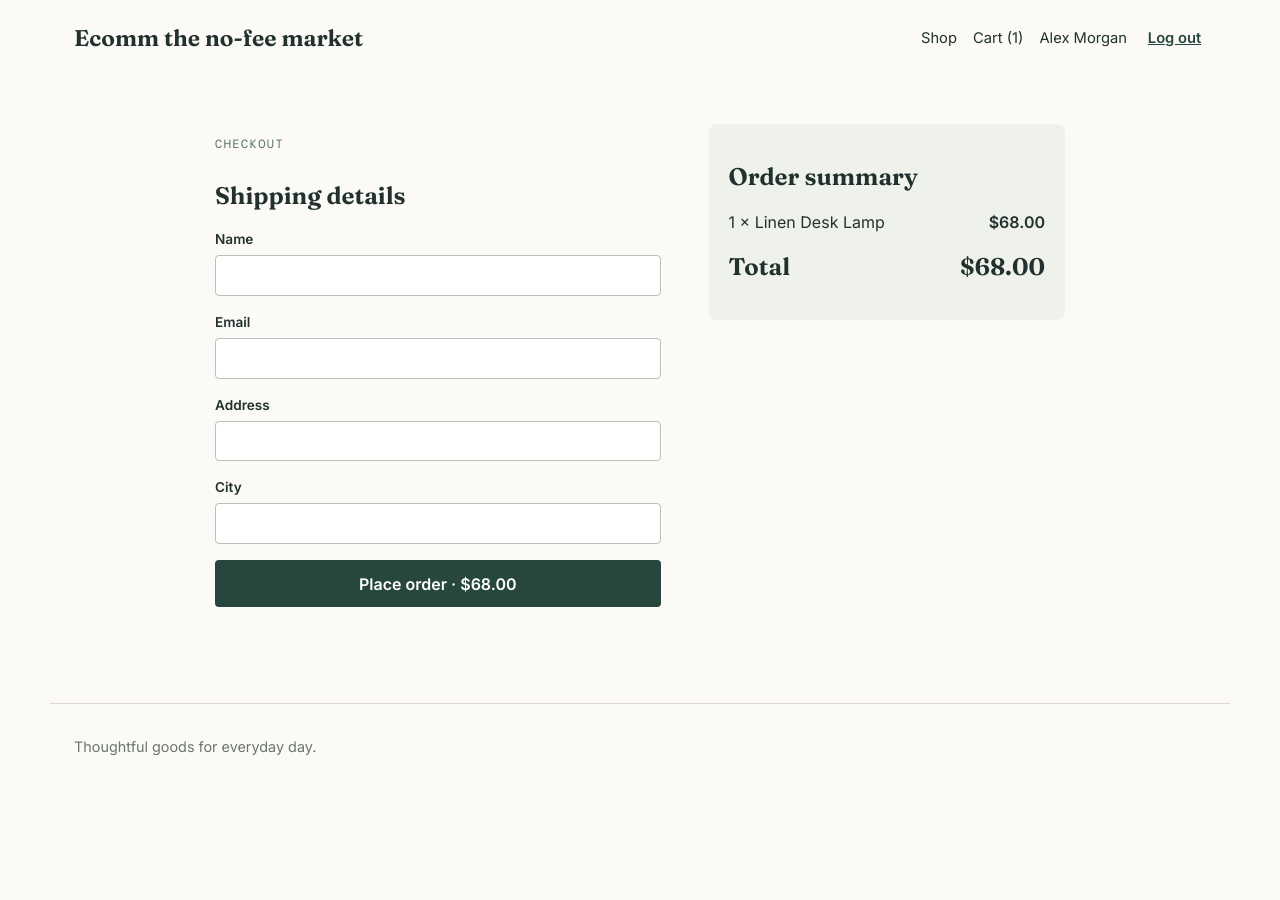
Test: shows cart information at checkout and confirms an order
Expected: the text "1 × Linen Desk Lamp $68.00" is shown, [728,210,1045,234]
In the field labelled "Name": (438, 275) [215,255,660,296], type "Sam"
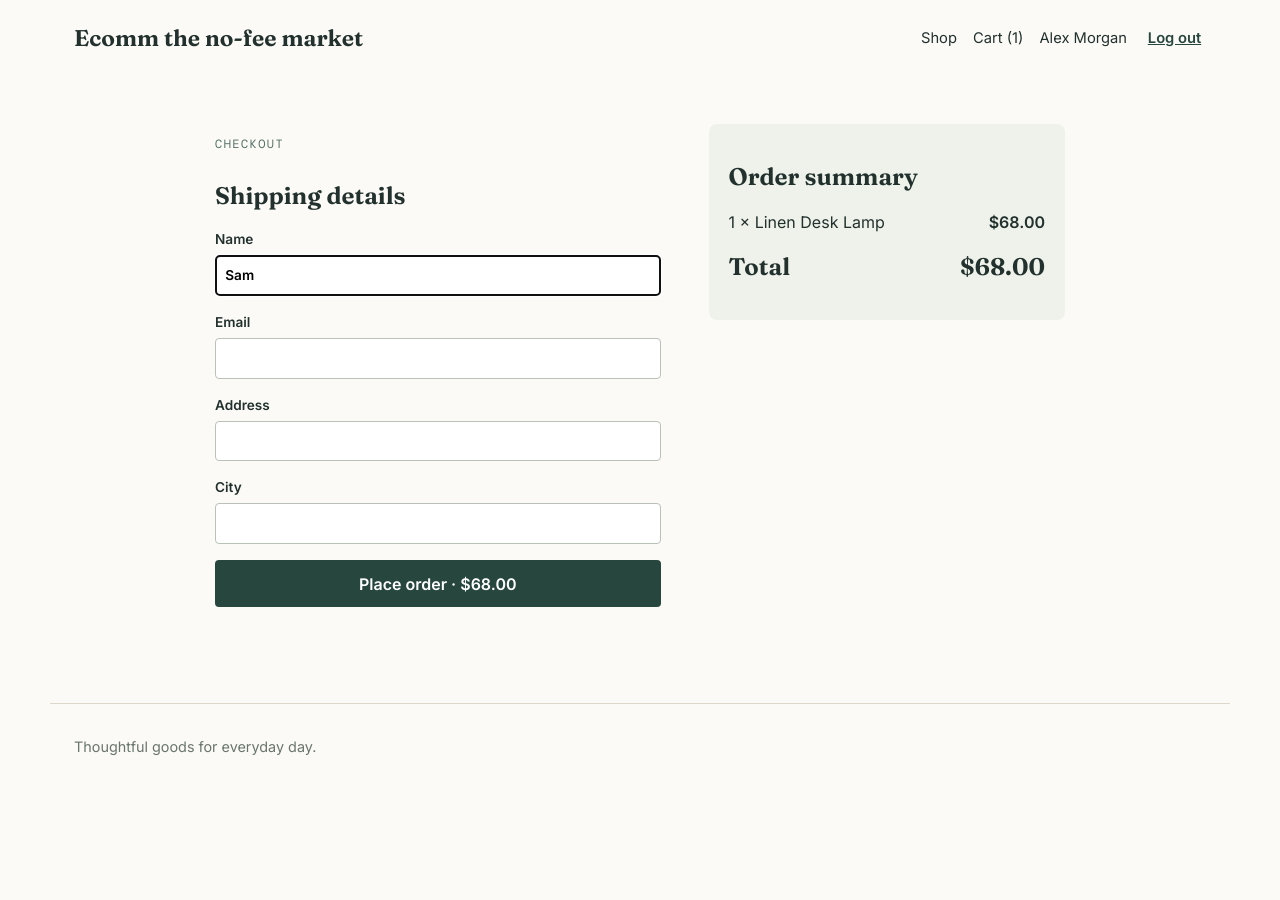
In the field labelled "Email": (438, 358) [215,338,660,379], type "sam@example.com"
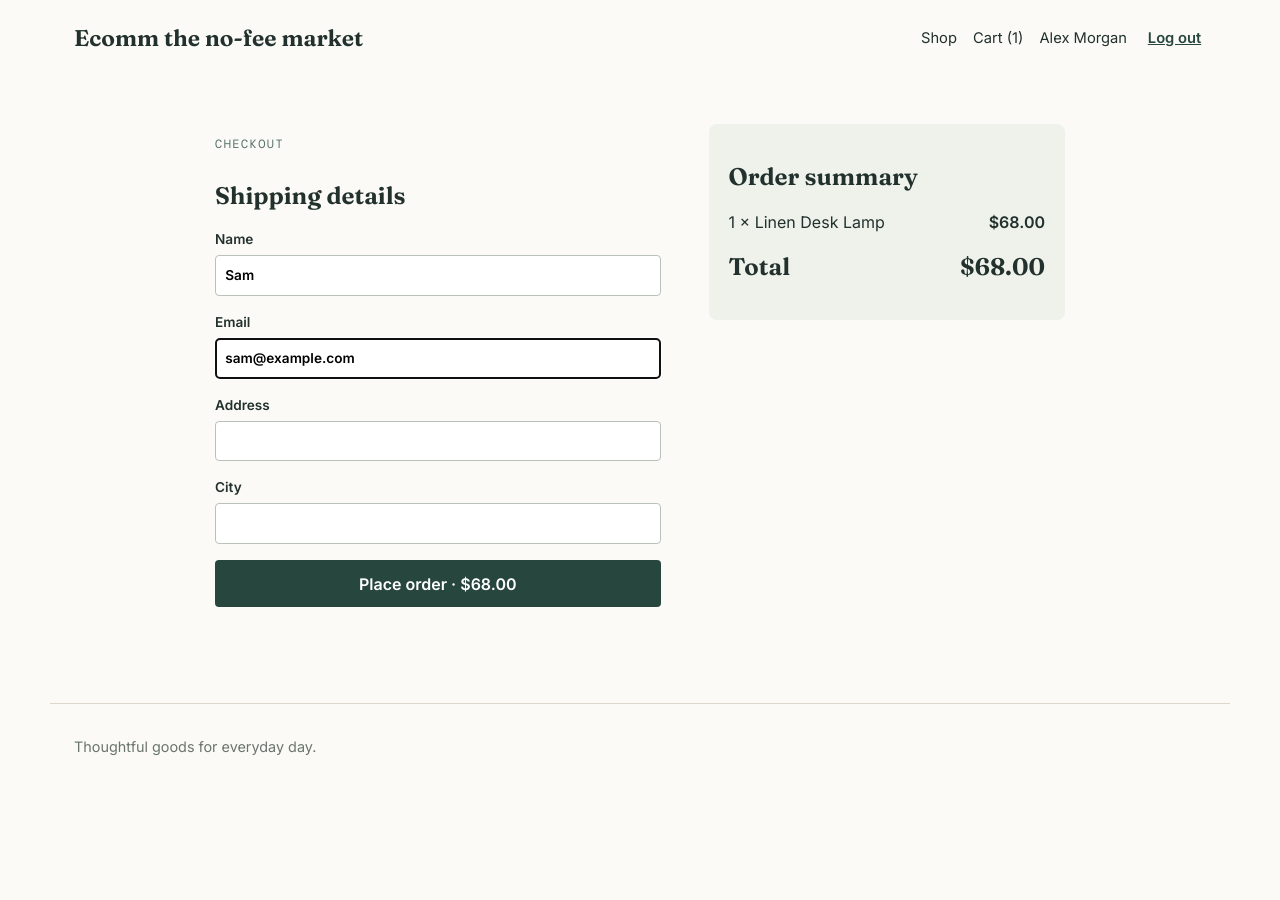
In the field labelled "Address": (438, 441) [215,421,660,462], type "River Road 1"
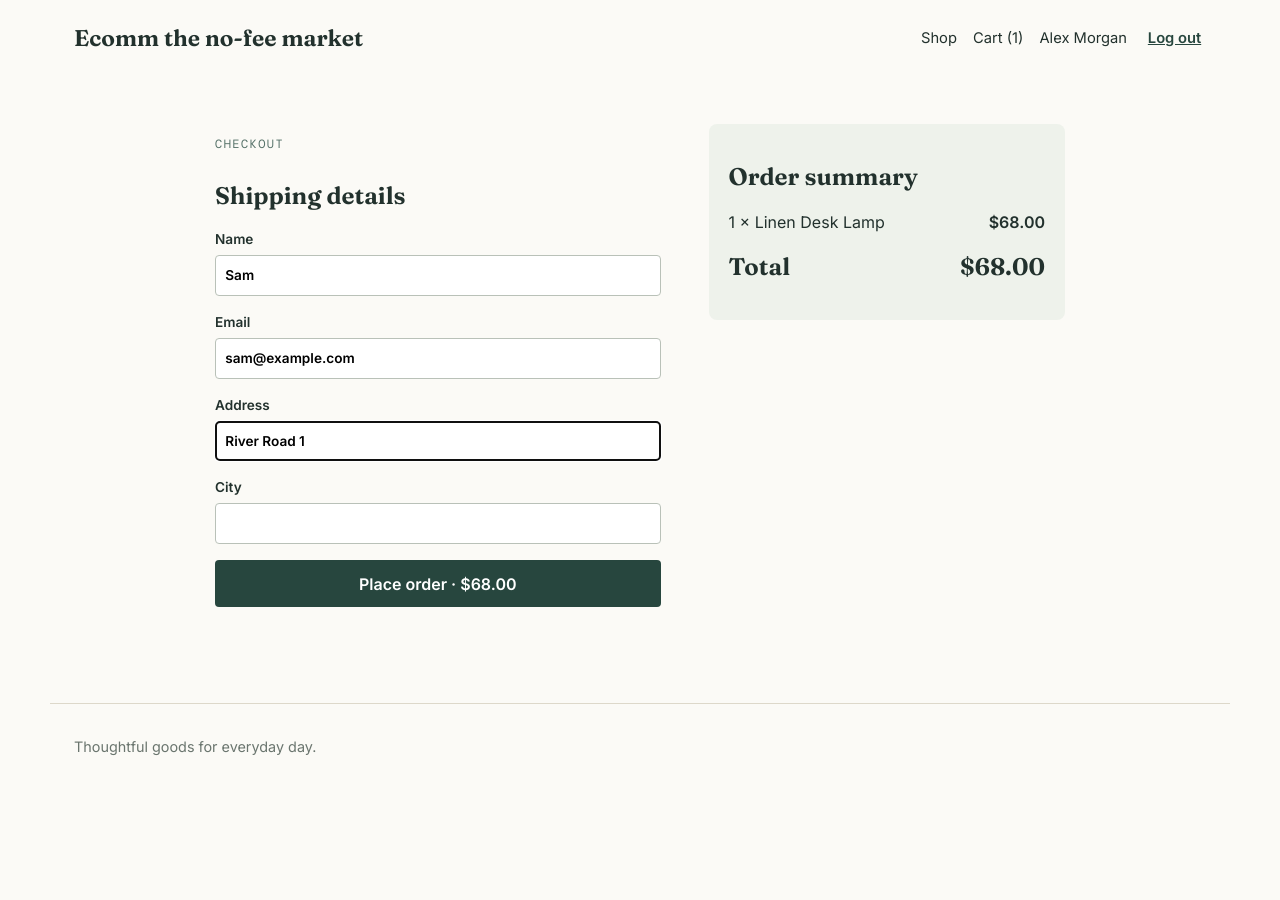
In the field labelled "City": (438, 524) [215,504,660,544], type "Austin"
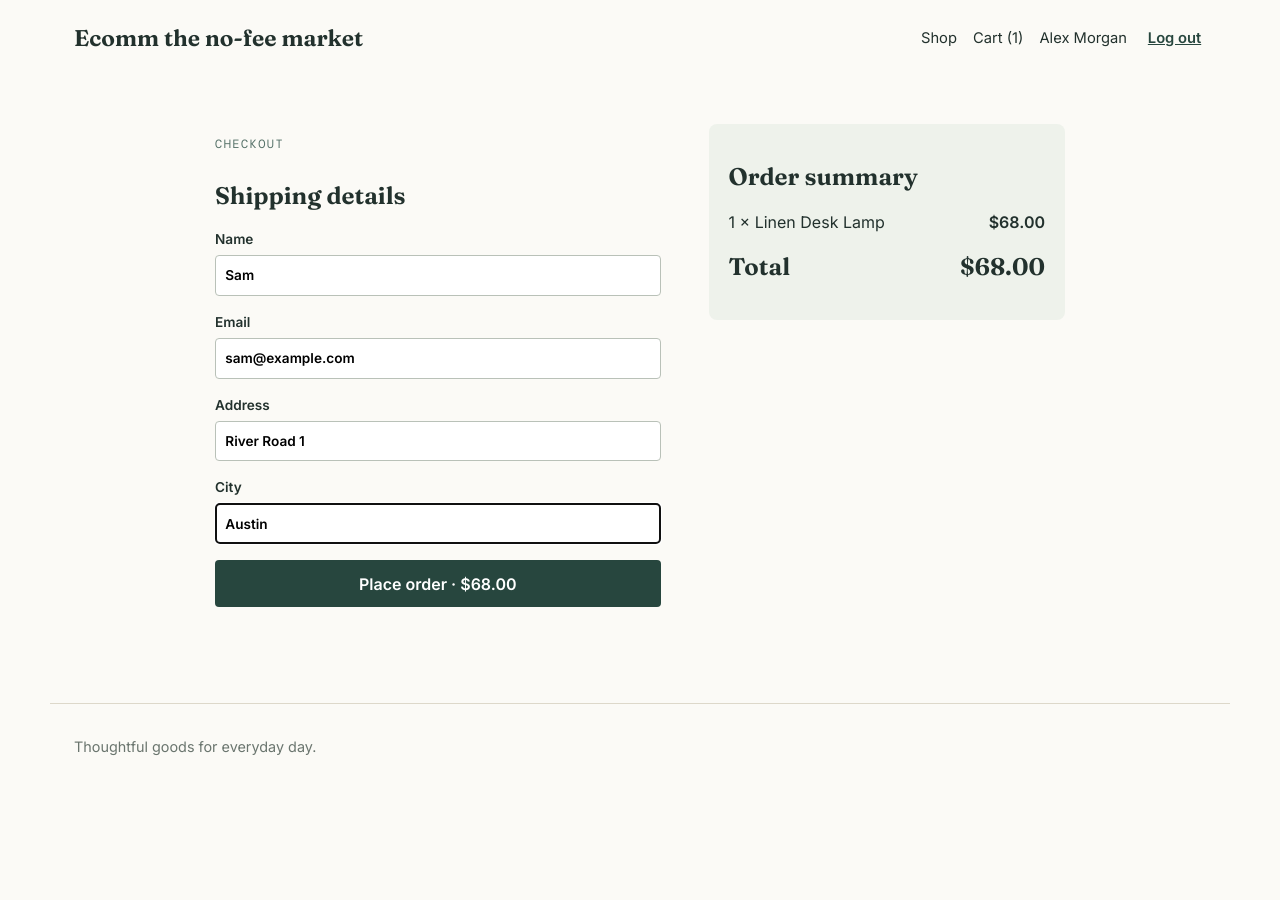
Click the button "Place order · $68.00": click(438, 584) [215,560,660,607]
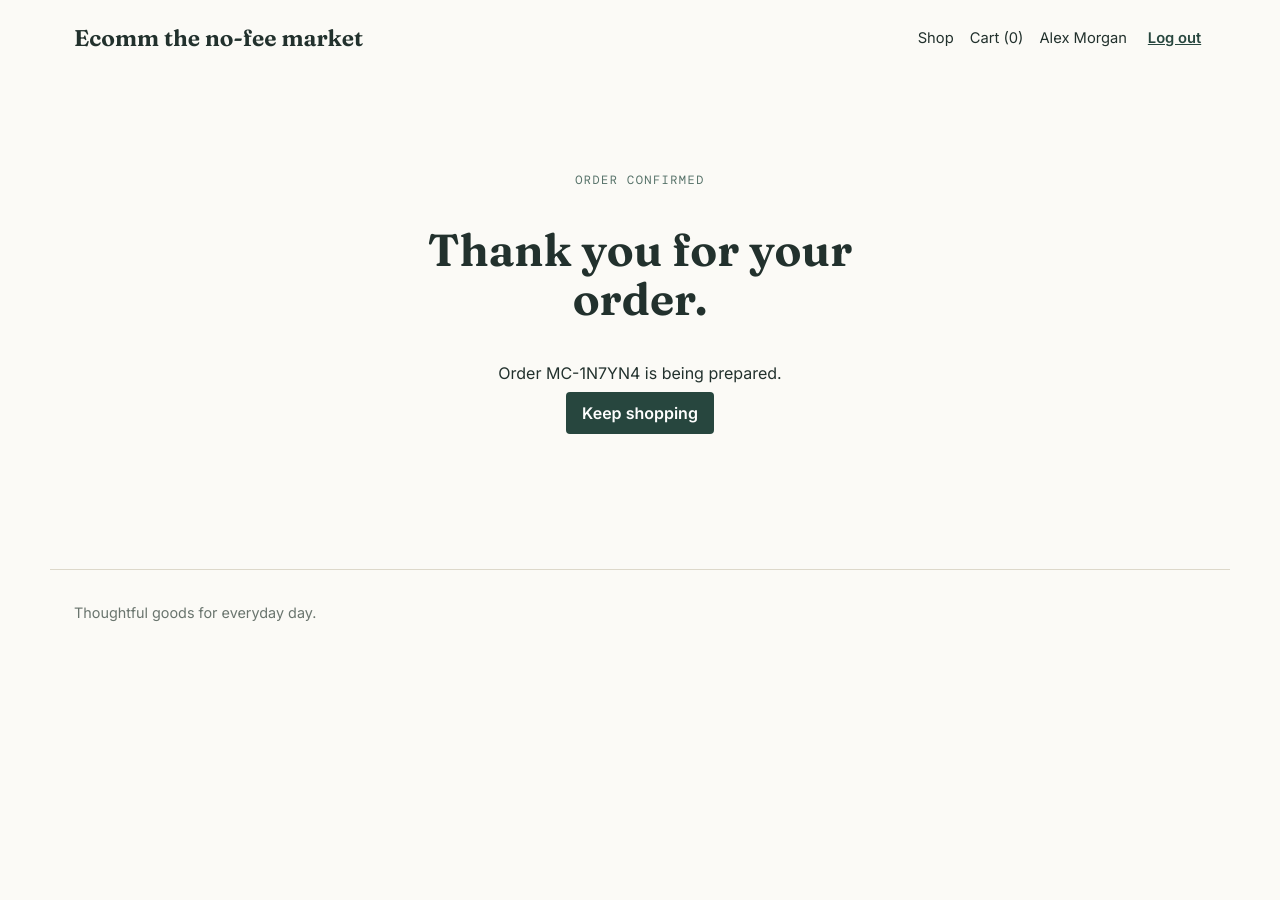
Result: the heading "Thank you for your order." is shown at [428,222,852,326]
